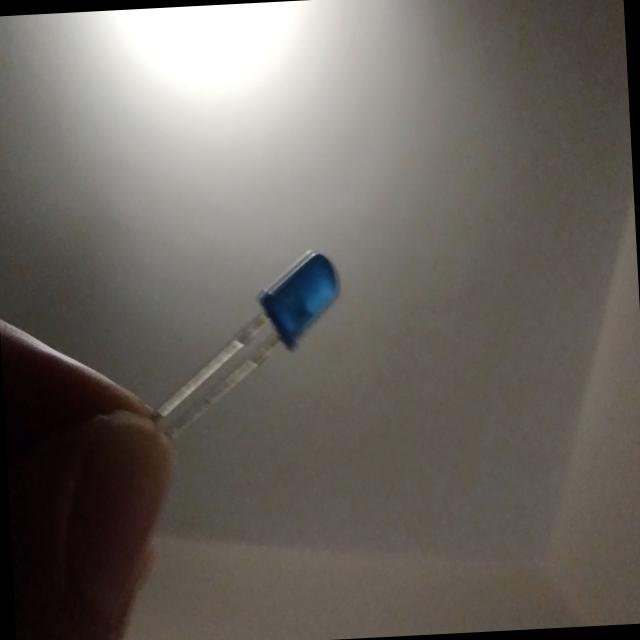blue_led: (254, 246, 344, 354)
